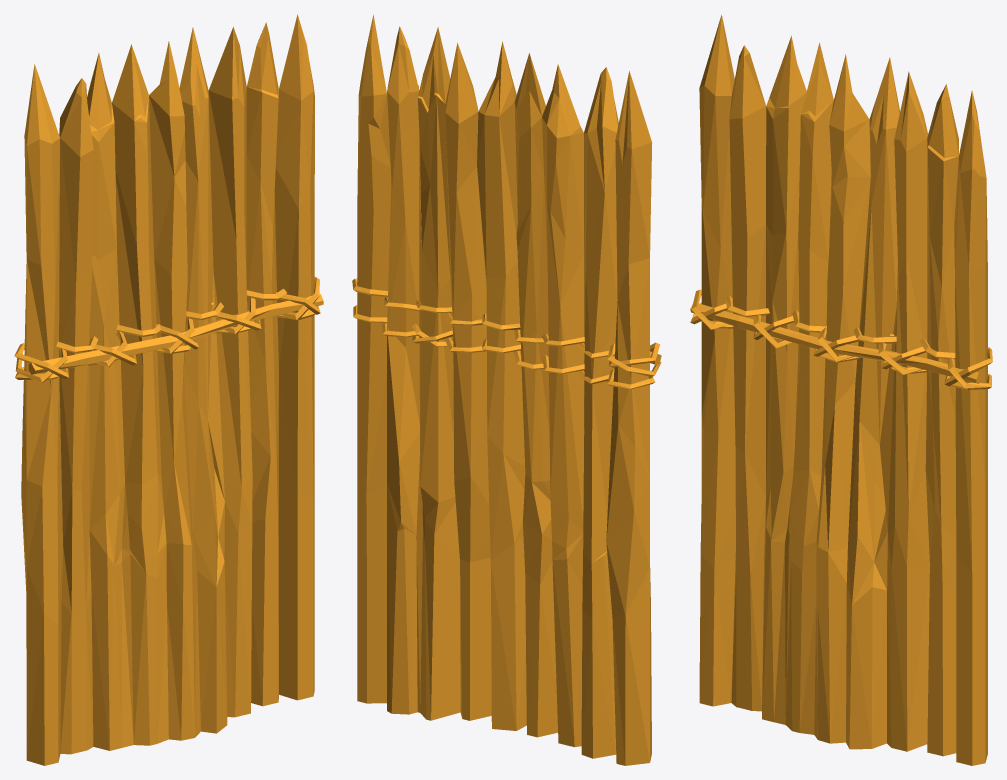
The model's file is SM_Palisade_3m_B.fbx.
The picture shows the model from 3 angles, left to right: view 1: azimuth 30°, elevation 25°; view 2: azimuth 150°, elevation 25°; view 3: azimuth 330°, elevation 25°; orthographic projection. The views are drawn at different scales.
Parts seen in each view (by area): view 1: palisade-3m-b; view 2: palisade-3m-b; view 3: palisade-3m-b.
Boxes of the visible parts, left/top/right/bottom form: palisade-3m-b: left=14, top=14, right=323, bottom=765; palisade-3m-b: left=352, top=14, right=661, bottom=765; palisade-3m-b: left=690, top=14, right=992, bottom=765.
Bounding box in the file's own units: 3.16 × 6.85 × 0.6933.
